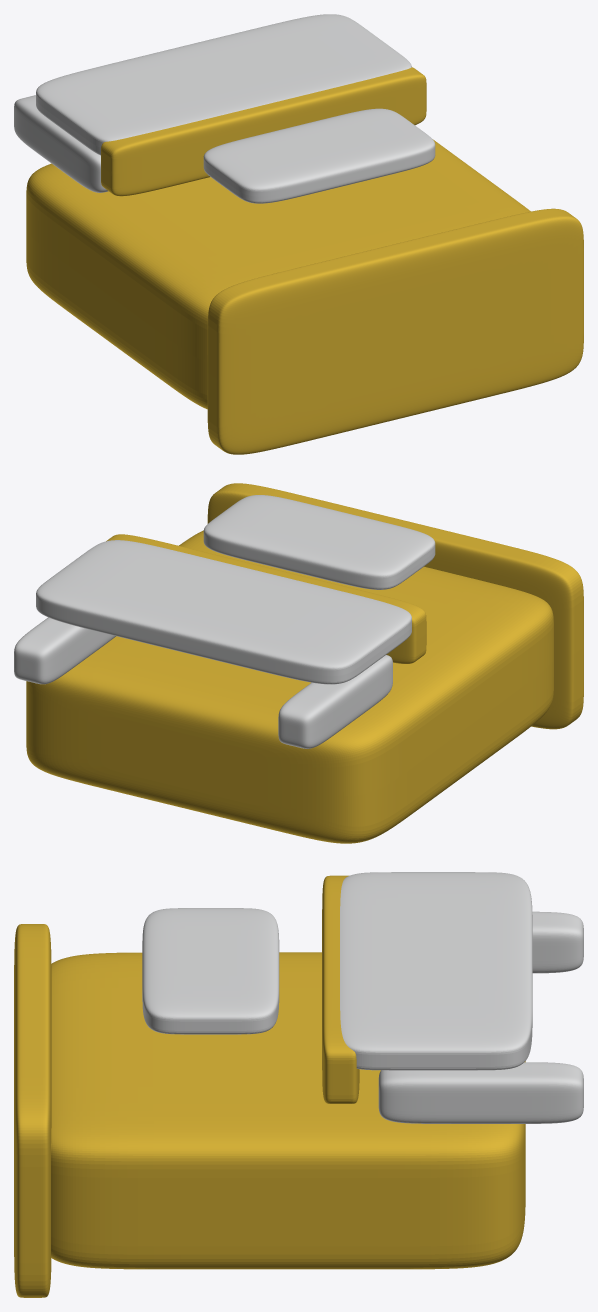
Rendered from piano_sq.glb.
3 renders of one model, top to bottom at view 1: azimuth 30°, elevation 25°; view 2: azimuth 150°, elevation 25°; view 3: azimuth 270°, elevation 25°, orthographic. The views are drawn at different scales.
Visible parts, largest first — view 1: superquadric_2, superquadric_0, superquadric_3, superquadric_4, superquadric_1, superquadric_5; view 2: superquadric_0, superquadric_3, superquadric_4, superquadric_2, superquadric_5, superquadric_6, superquadric_1; view 3: superquadric_0, superquadric_3, superquadric_4, superquadric_2, superquadric_6, superquadric_1, superquadric_5.
Part boxes in pixels (x1,y1,x2,y2): superquadric_2: (207, 208, 583, 454); superquadric_0: (26, 139, 530, 409); superquadric_3: (36, 14, 411, 155); superquadric_4: (203, 108, 435, 203); superquadric_1: (101, 67, 426, 196); superquadric_5: (14, 95, 108, 192); superquadric_0: (26, 530, 553, 843); superquadric_3: (36, 540, 411, 684); superquadric_4: (203, 495, 435, 589); superquadric_2: (207, 483, 583, 729); superquadric_5: (278, 655, 392, 748); superquadric_6: (14, 617, 115, 684); superquadric_1: (106, 534, 426, 663); superquadric_0: (51, 952, 525, 1269); superquadric_3: (340, 872, 532, 1070); superquadric_4: (142, 908, 279, 1034); superquadric_2: (14, 924, 51, 1297); superquadric_6: (378, 1062, 583, 1123); superquadric_1: (322, 875, 359, 1103); superquadric_5: (532, 911, 583, 973).
Size of the model in its own units: 0.8648 by 0.4835 by 1.
